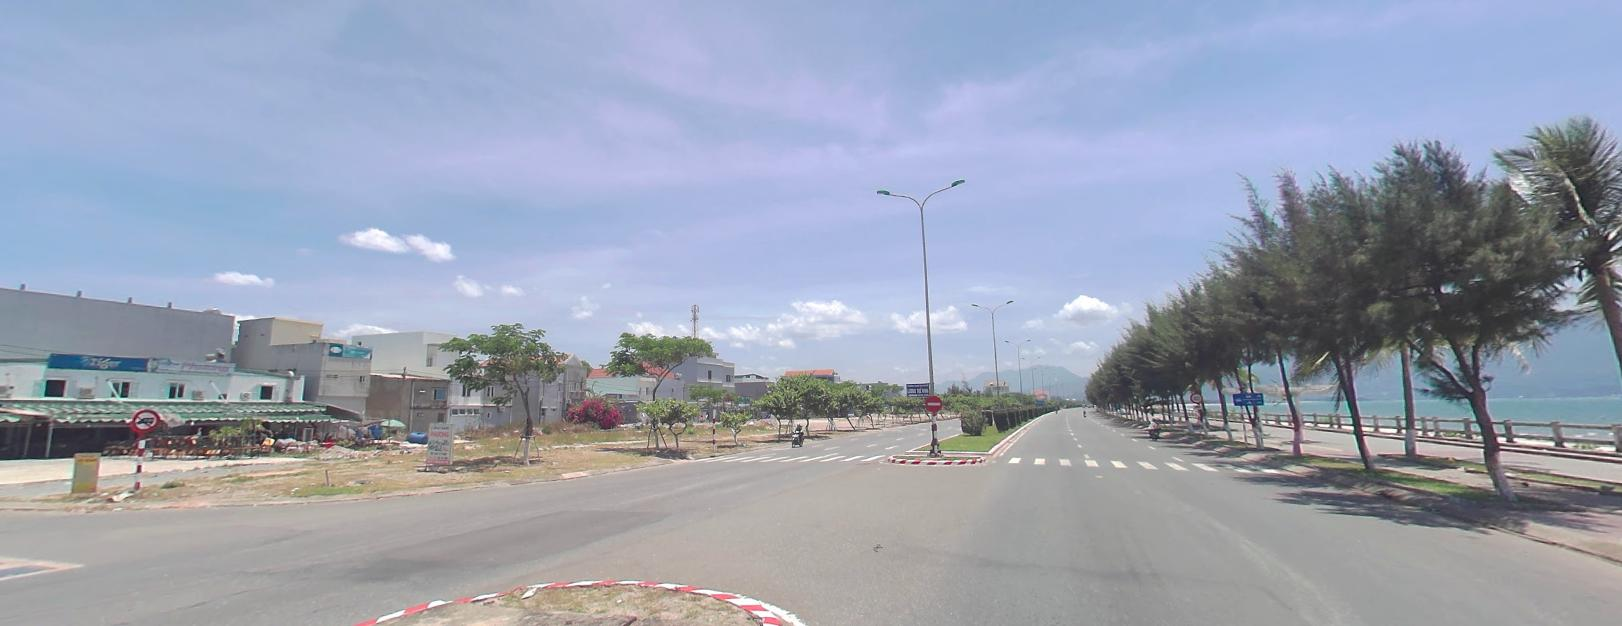Cam con lai: (130, 406, 159, 432), (130, 407, 160, 430), (132, 408, 160, 431), (132, 408, 158, 430), (1190, 391, 1202, 402)
Cam nguoc chieu: (924, 393, 941, 410), (925, 394, 942, 410), (925, 394, 941, 411), (925, 394, 941, 409)
Gioi han toc do: (1190, 391, 1202, 401), (1190, 391, 1201, 400)
